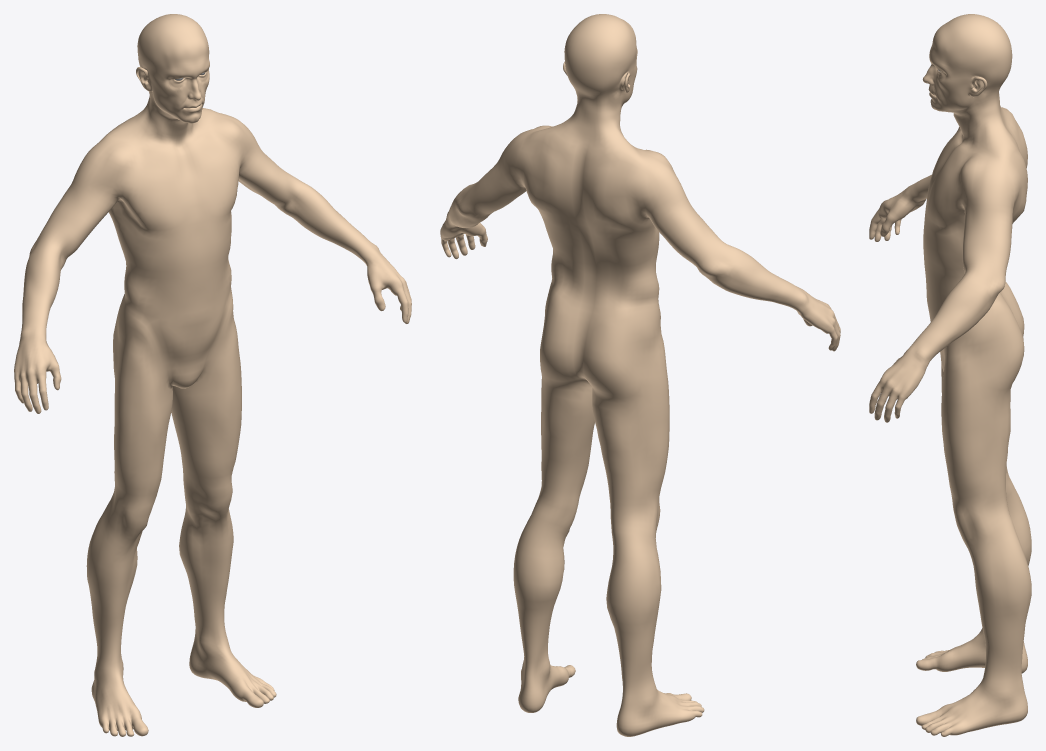
Rendered from Basemesh_Male.fbx.
The picture shows the model from 3 angles, left to right: view 1: azimuth 30°, elevation 25°; view 2: azimuth 150°, elevation 25°; view 3: azimuth 270°, elevation 25°; orthographic projection.
Parts seen in each view (by area): view 1: Basemesh_Male; view 2: Basemesh_Male; view 3: Basemesh_Male.
Boxes of the visible parts, x1=… form: Basemesh_Male: x1=14, y1=14, x2=411, y2=736; Basemesh_Male: x1=440, y1=14, x2=840, y2=736; Basemesh_Male: x1=869, y1=14, x2=1031, y2=736.
Size of the model in its own units: 108 by 180 by 39.07.
